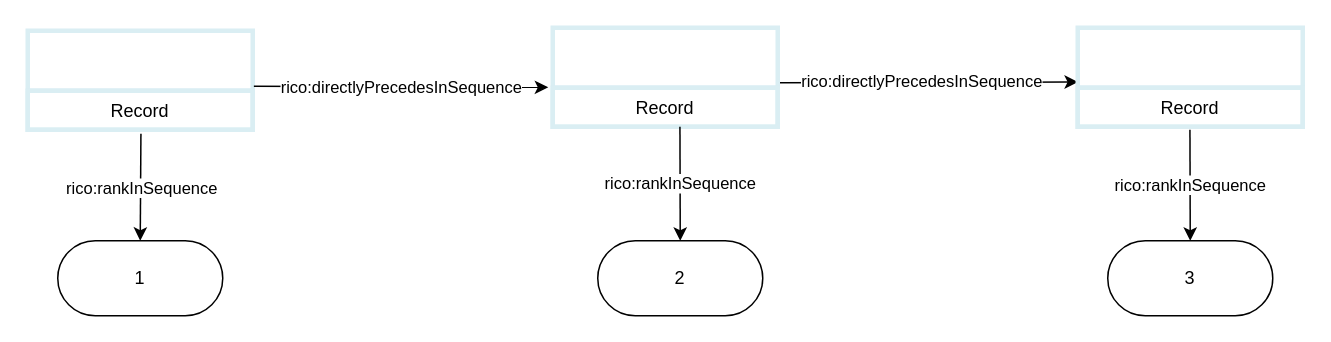
This 1331x342 diagram has some shape labels left out. The shapes that lost their labels are listed below. From the top down, each one's box as (x1, y1, x2, y2) in pixels, then its label:
(25, 28, 254, 131): First end-of-shift report for patient A
(550, 25, 779, 128): Second end-of-shift report for patient A
(1075, 25, 1304, 128): Third end-of-shift report for patient A
